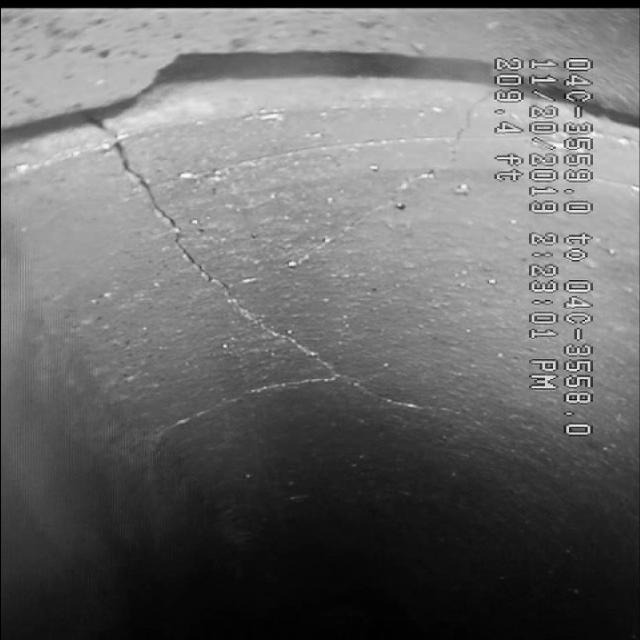Crack: (108, 133, 324, 384)
